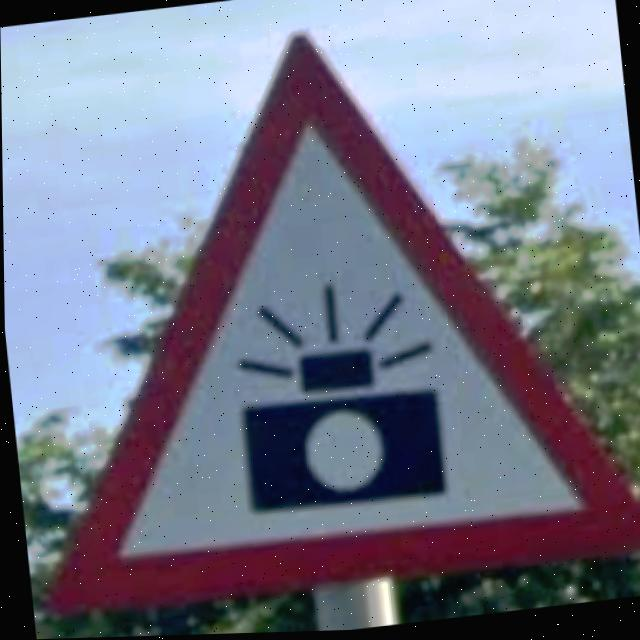speedcamera: (45, 34, 640, 613)
